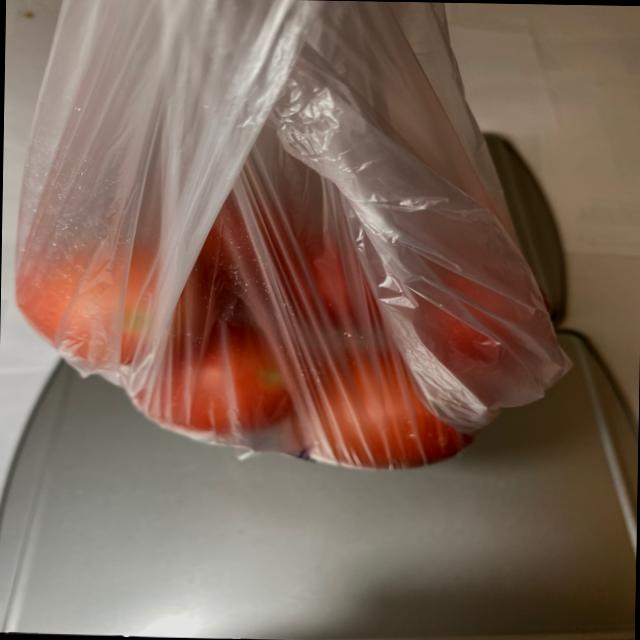tomato: (21, 193, 563, 474)
